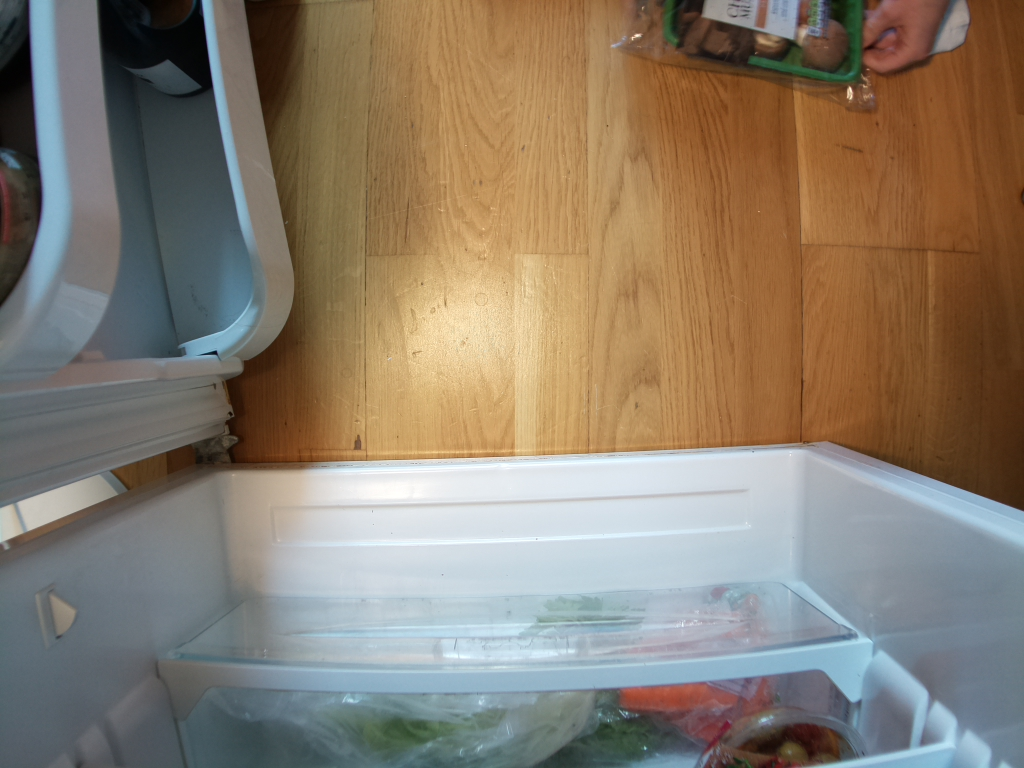mushrooms: (639, 1, 880, 93)
